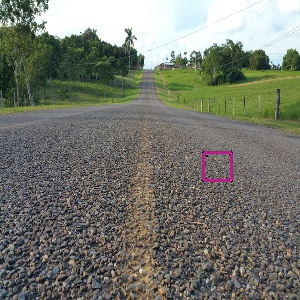square: (199, 150, 235, 184)
